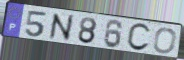5: (24, 11, 48, 38)
6: (103, 19, 124, 50)
8: (76, 16, 98, 45)
C: (125, 23, 152, 53)
N: (48, 12, 75, 42)
O: (152, 27, 178, 55)
